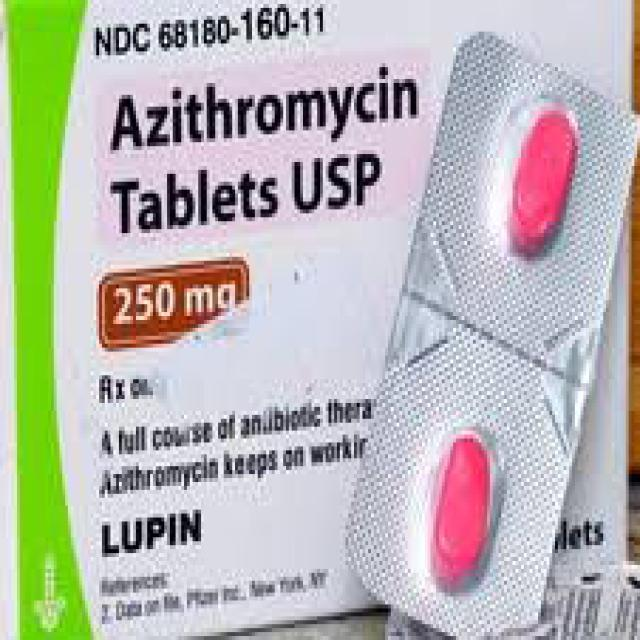drug-name: (106, 58, 427, 161)
